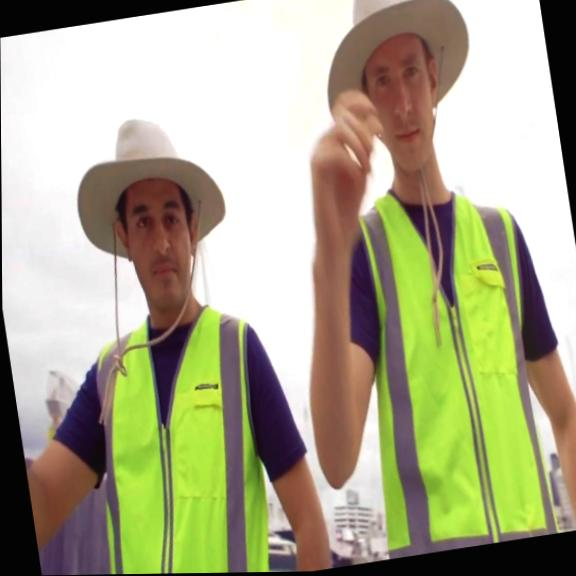safety_vest: (334, 172, 566, 560), (69, 294, 287, 575)
